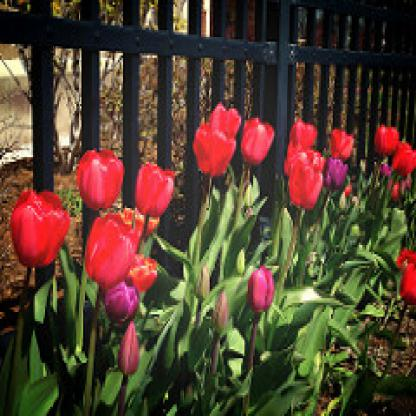TULIP: (12, 94, 409, 366)
